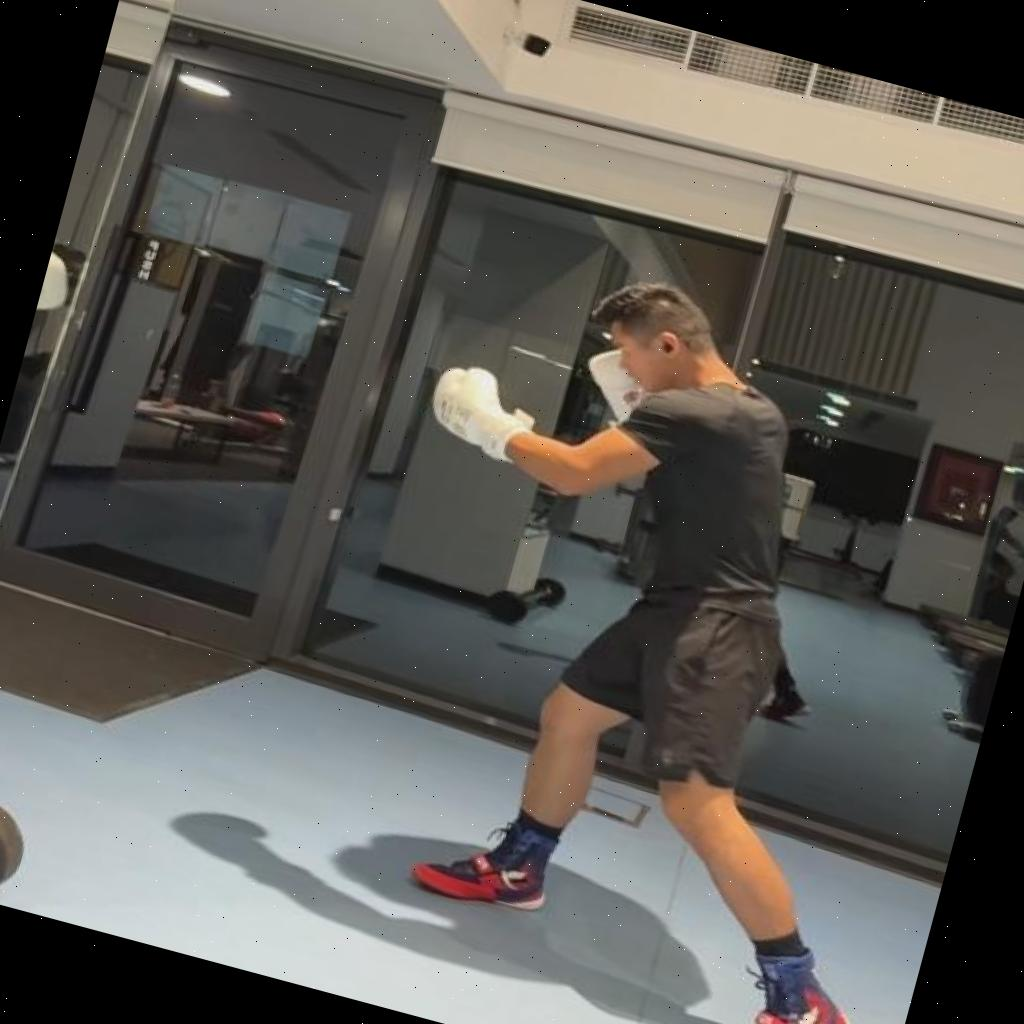uppercut: (278, 236, 1024, 1024)
